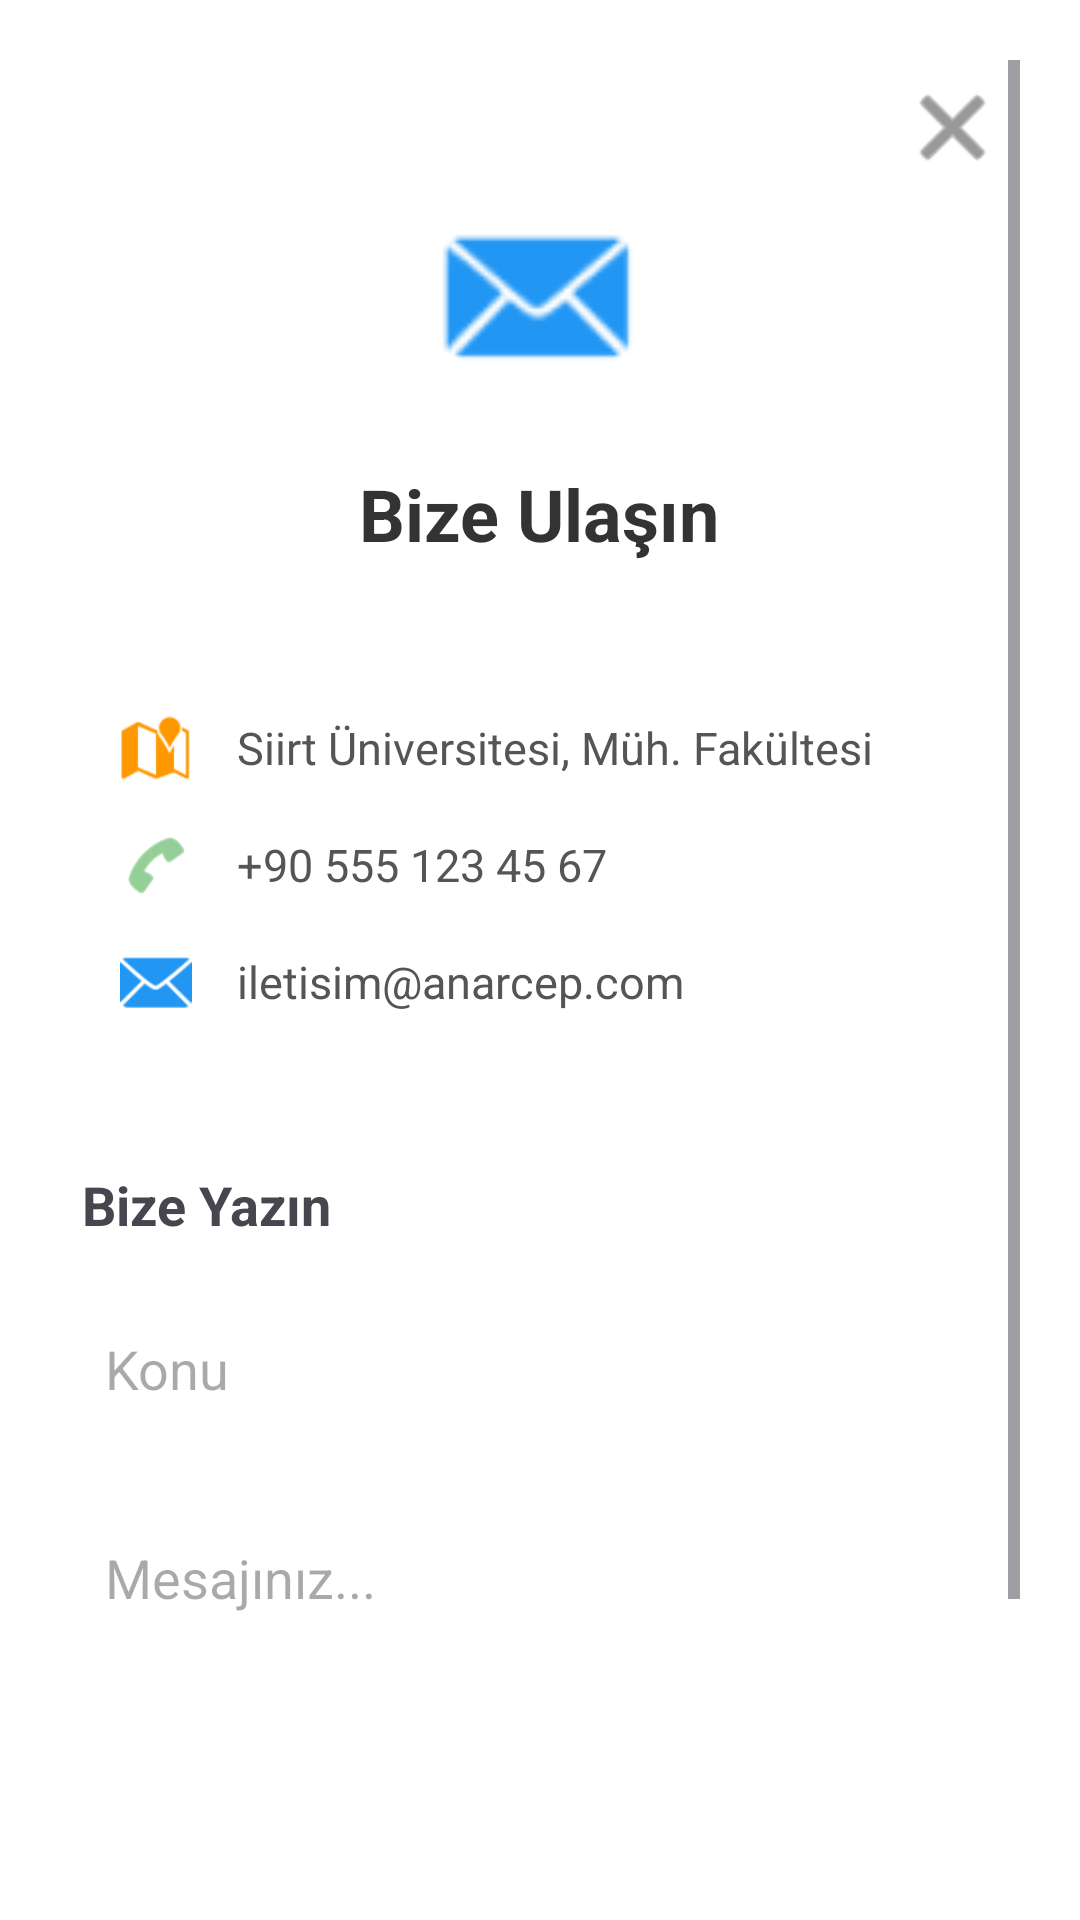

Named icons in this screenshot (1080px x 1920px) and their bounding boxes, (x1, y1, x2, y2):
call: (128, 837, 184, 893)
close clear cancel: (920, 95, 985, 160)
map: (121, 716, 190, 780)
